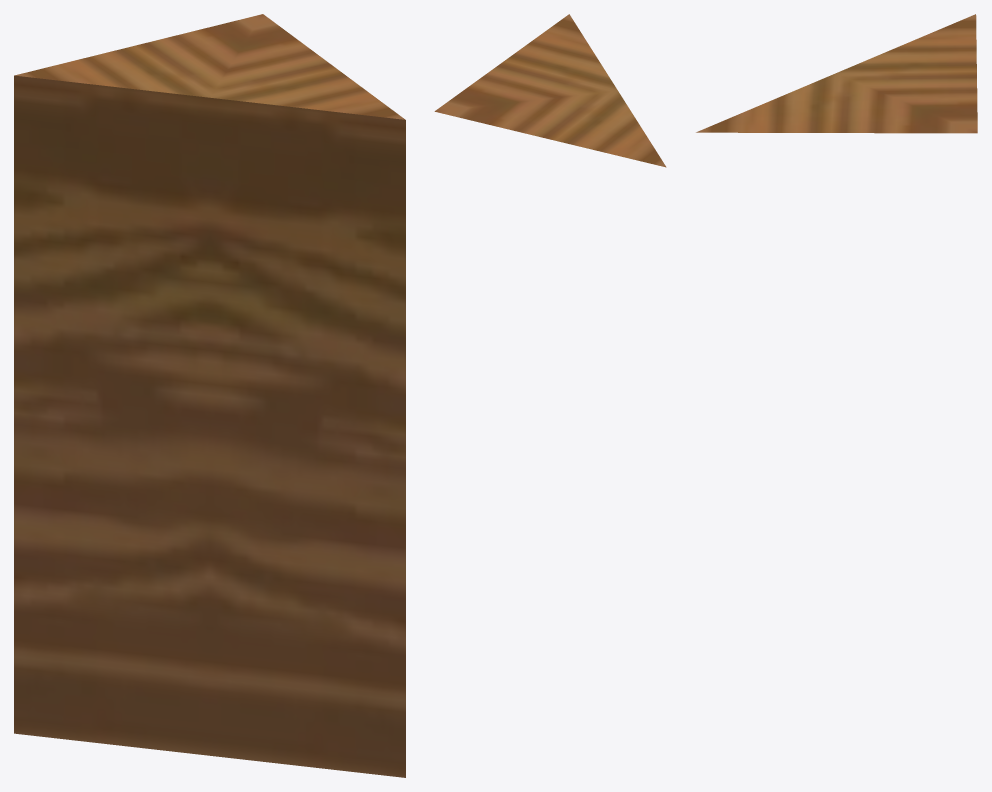
Rendered from corner-exterior-toponly.glb.
3 renders of one model, left to right at view 1: azimuth 30°, elevation 25°; view 2: azimuth 150°, elevation 25°; view 3: azimuth 270°, elevation 25°, orthographic. The views are drawn at different scales.
Visible parts, largest first — view 1: Corner_Exterior_TopOnly; view 2: Corner_Exterior_TopOnly; view 3: Corner_Exterior_TopOnly.
Boxes of the visible parts, bbox=[...] form: Corner_Exterior_TopOnly: bbox=[14, 14, 405, 777]; Corner_Exterior_TopOnly: bbox=[434, 14, 666, 167]; Corner_Exterior_TopOnly: bbox=[696, 14, 977, 133].
Bounding box in the file's own units: 0.0928 × 0.2335 × 0.0928.
1 material, 1 textured.
